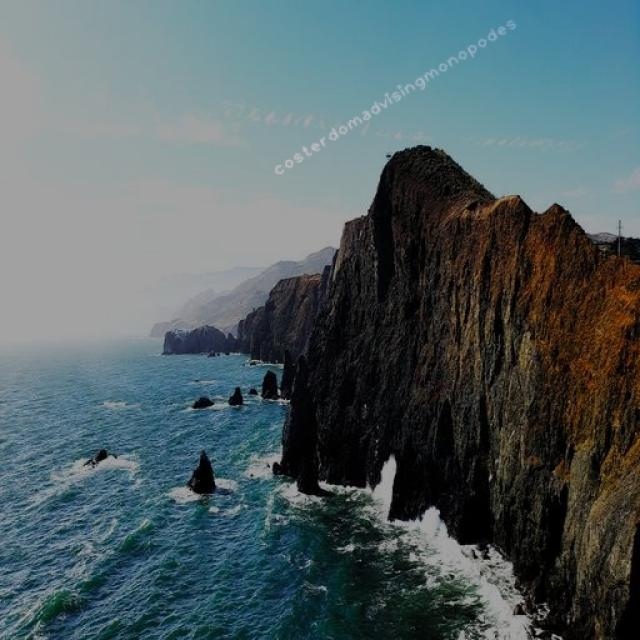watermark: (272, 12, 518, 178)
